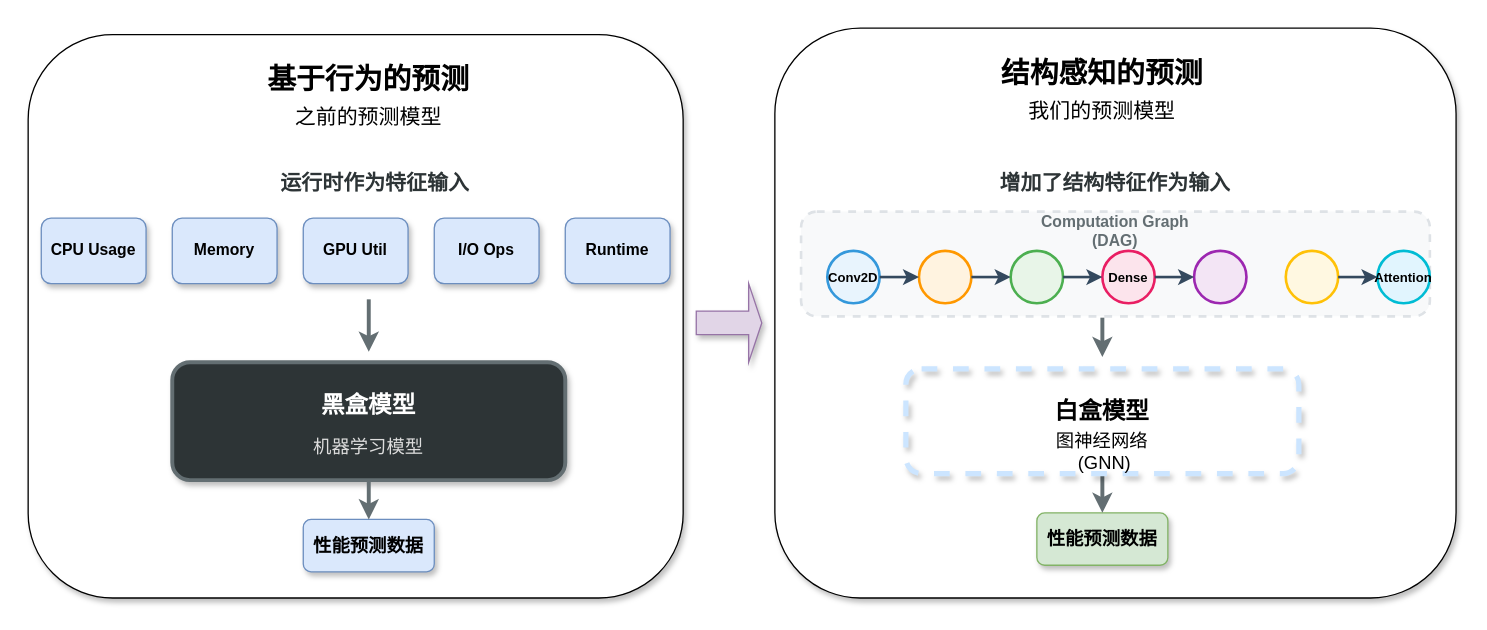
Some shapes in this 1487 by 630 pixel diagram are drawn without their labels. Each missing label, with the centre of its shape:
"MatMul" belongs at point 1311,276.
"Pool" belongs at point 1036,276.
"ReLU" belongs at point 944,276.
"Softmax" belongs at point 1219,276.
